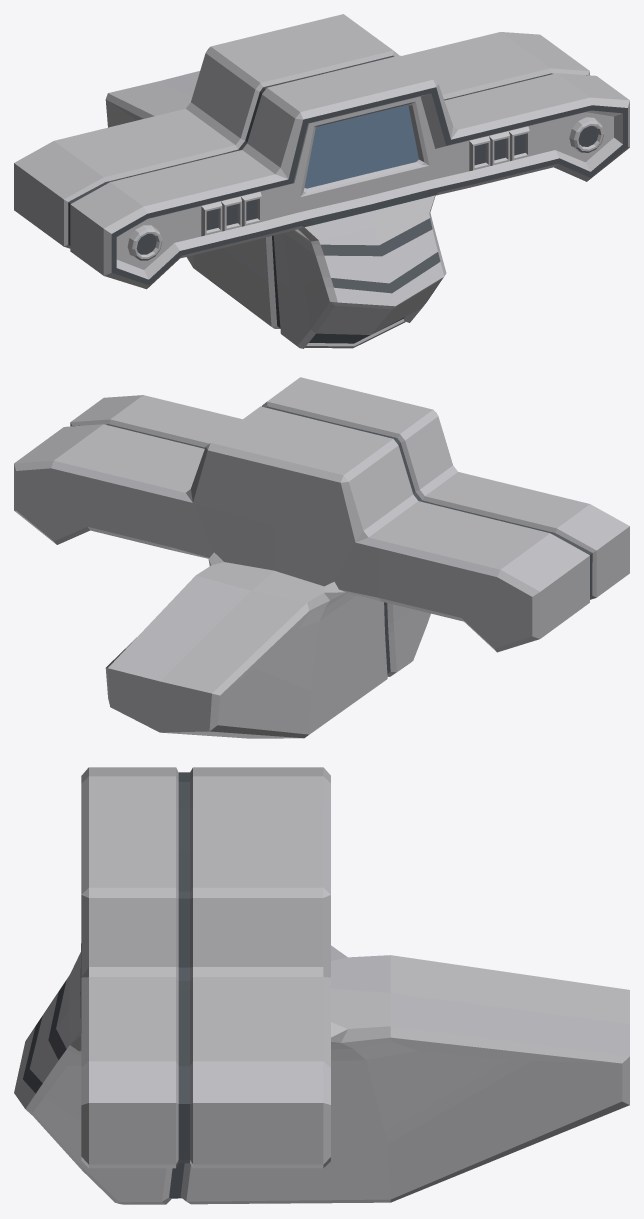
The model's file is Dropship_01_Front_Body.fbx.
The picture shows the model from 3 angles, top to bottom: view 1: azimuth 30°, elevation 25°; view 2: azimuth 150°, elevation 25°; view 3: azimuth 270°, elevation 25°; orthographic projection. The views are drawn at different scales.
Parts seen in each view (by area): view 1: Dropship_01_Front_Body; view 2: Dropship_01_Front_Body; view 3: Dropship_01_Front_Body.
Part boxes in pixels (x1,y1,x2,y2): Dropship_01_Front_Body: [14, 14, 629, 348]; Dropship_01_Front_Body: [14, 377, 629, 738]; Dropship_01_Front_Body: [14, 767, 629, 1204].
Size of the model in its own units: 1191 by 568 by 923.
3 materials, 3 textured.
